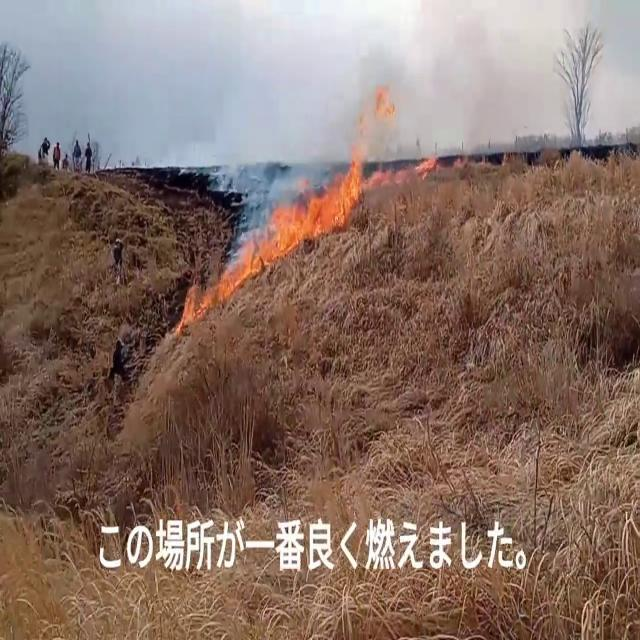Fire: (244, 124, 370, 272), (181, 266, 238, 326)
